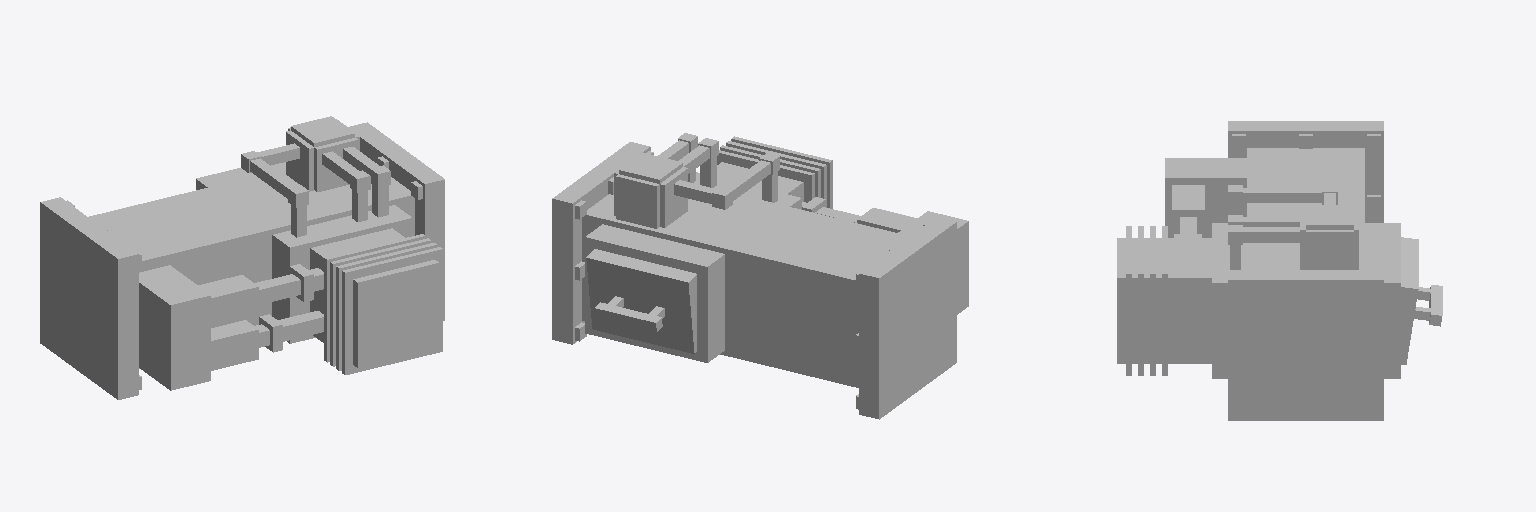
The model's file is fluidpump.obj.
3 views of the same model, side by side, from view 1: azimuth 30°, elevation 25°; view 2: azimuth 150°, elevation 25°; view 3: azimuth 270°, elevation 25° (orthographic).
Size of the model in its own units: 1 by 0.5 by 0.8605.